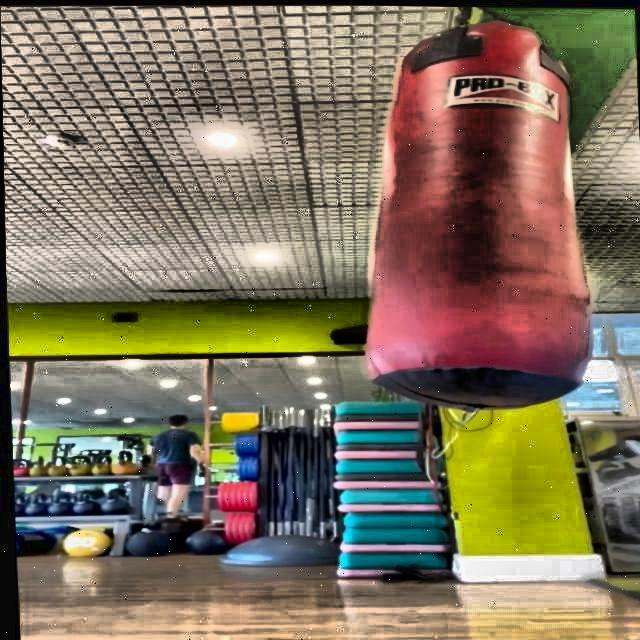boxing-bag: (353, 4, 582, 411)
